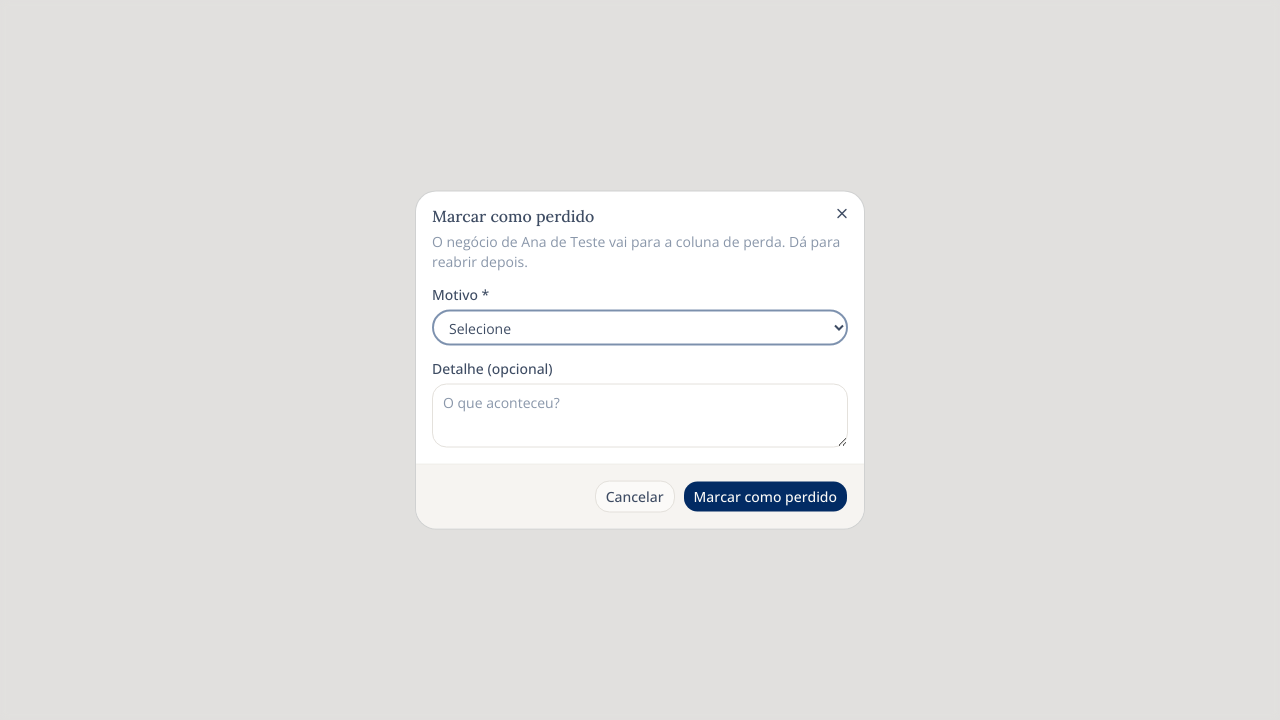
DialogoDePerda › “Outro” exige o detalhe
Select "Outro" in the dropdown labelled "Motivo *" at [640, 328], box [432,310,848,346]
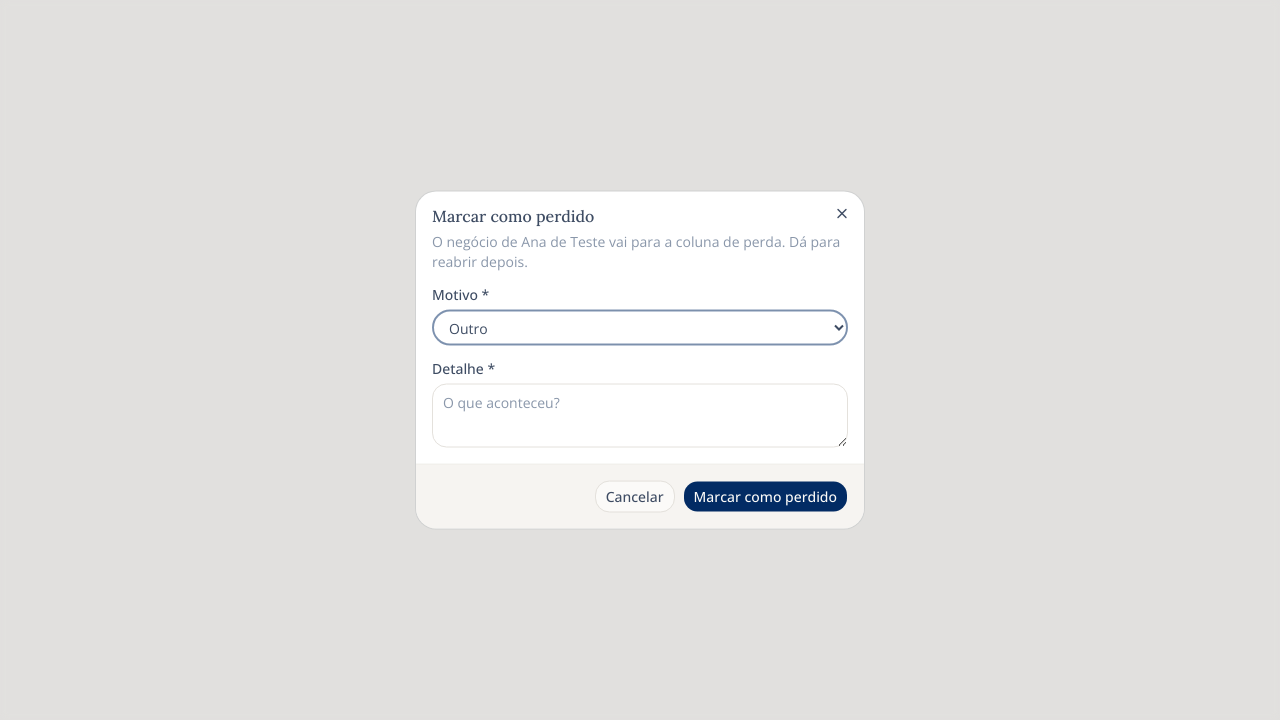
Click the button "Marcar como perdido" at [765, 496], box [683,480,848,512]
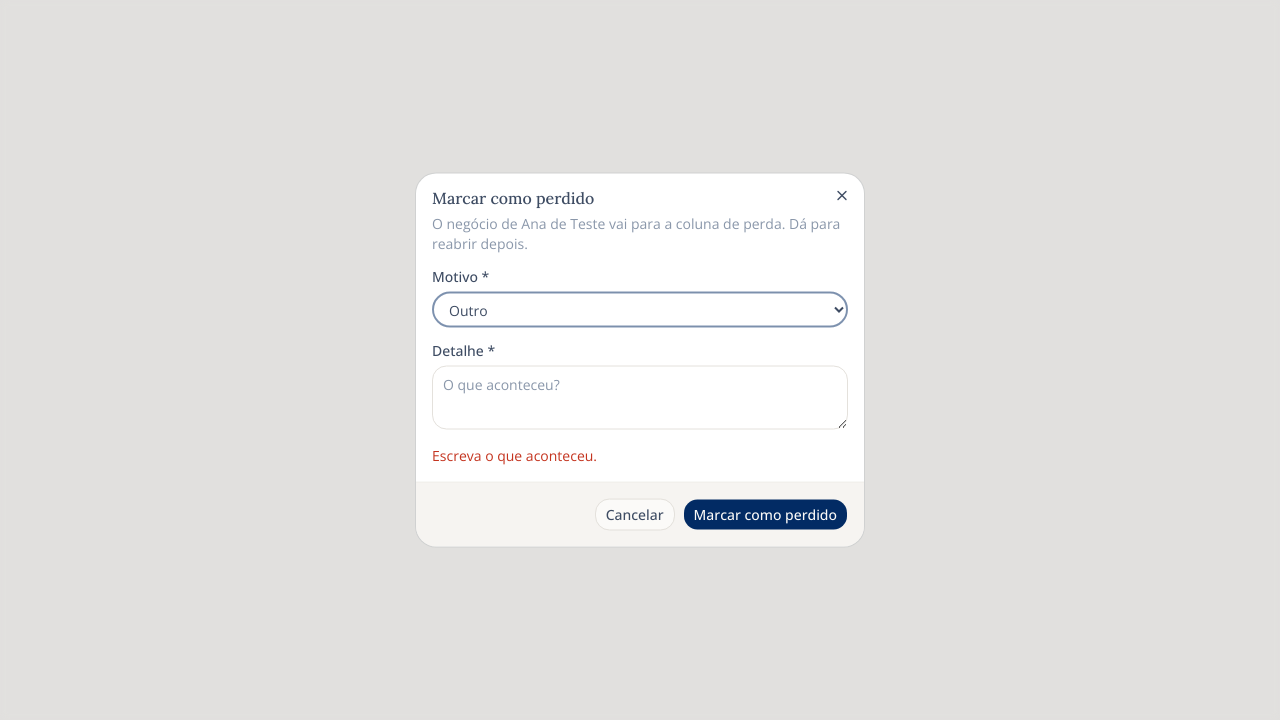
Expected: the text "Escreva o que aconteceu." is shown, [432,446,597,464]
